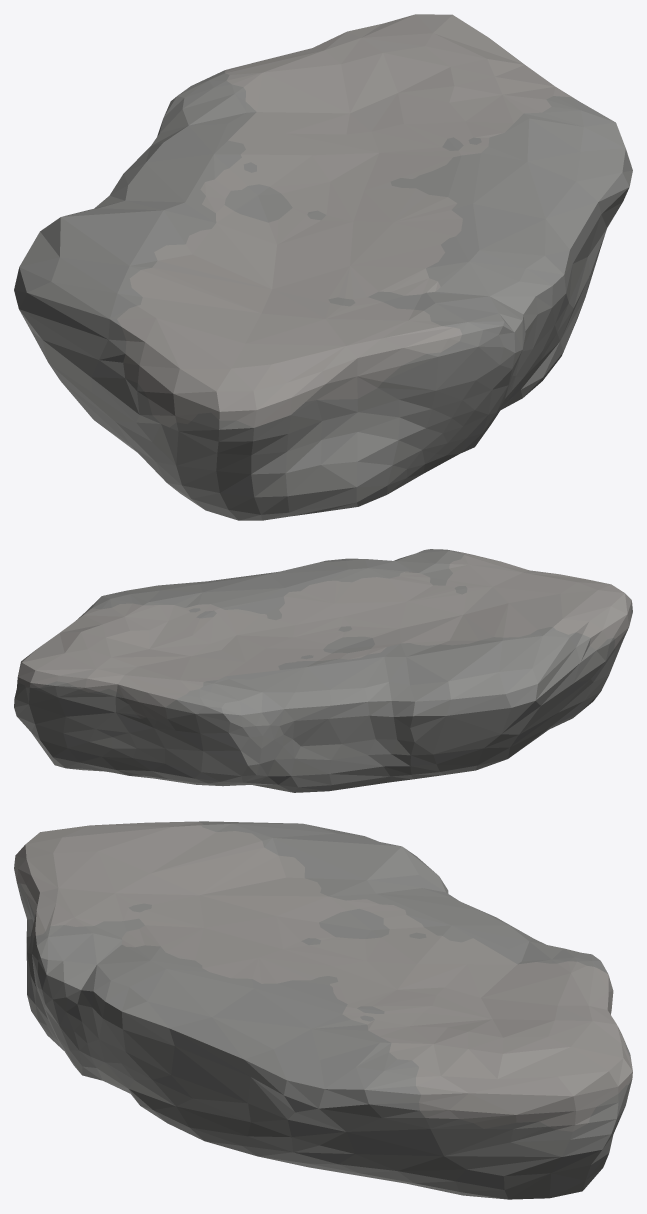
File: Cavern_Floor_Wide_AngleCorner-01.fbx
3 renders of one model, top to bottom at view 1: azimuth 30°, elevation 25°; view 2: azimuth 150°, elevation 25°; view 3: azimuth 270°, elevation 25°, orthographic. The views are drawn at different scales.
Visible parts, largest first — view 1: Cavern_Floor_Wide_AngleCorner-01; view 2: Cavern_Floor_Wide_AngleCorner-01; view 3: Cavern_Floor_Wide_AngleCorner-01.
Part boxes in pixels (left/top/right/bottom): Cavern_Floor_Wide_AngleCorner-01: left=14, top=14, right=632, bottom=520; Cavern_Floor_Wide_AngleCorner-01: left=14, top=549, right=632, bottom=792; Cavern_Floor_Wide_AngleCorner-01: left=14, top=821, right=632, bottom=1199.
Size of the model in its own units: 1853 by 508 by 1836.
1 material, 1 textured.
